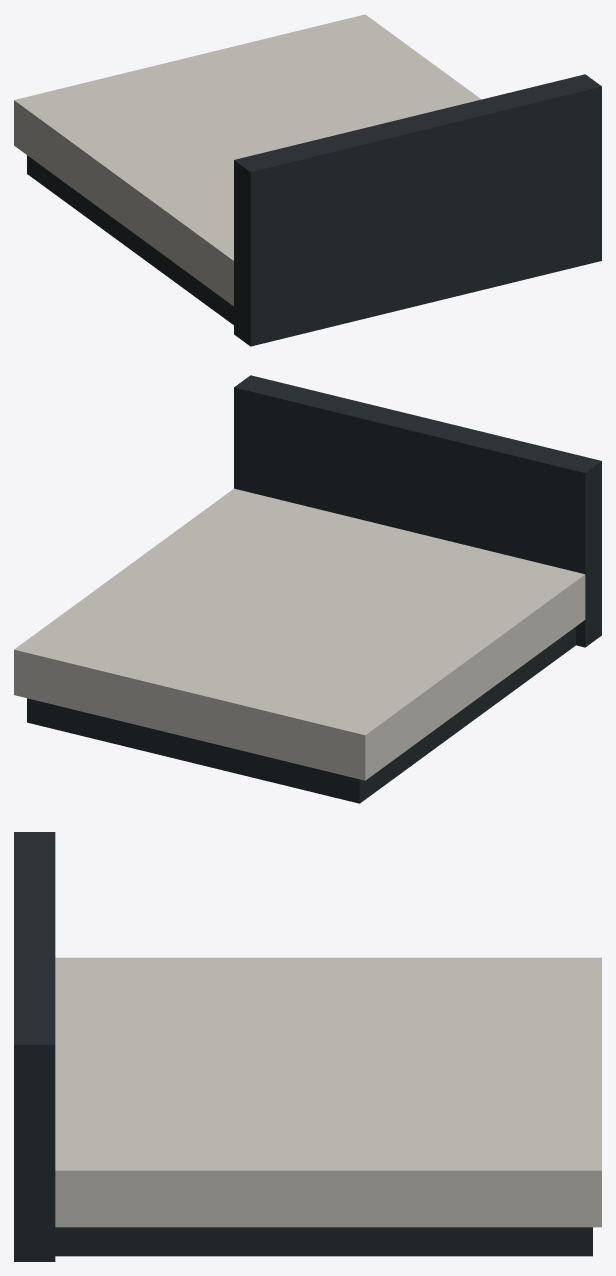
File: bed.fbx
3 views of the same model, one above another, from view 1: azimuth 30°, elevation 25°; view 2: azimuth 150°, elevation 25°; view 3: azimuth 270°, elevation 25° (orthographic). The views are drawn at different scales.
Parts seen in each view (by area): view 1: Cube.001; view 2: Cube.001; view 3: Cube.001.
Part boxes in pixels (x1,y1,x2,y2): Cube.001: [14, 14, 601, 346]; Cube.001: [14, 375, 601, 803]; Cube.001: [14, 832, 601, 1261].
Size of the model in its own units: 7.6 by 3.61 by 8.87.
